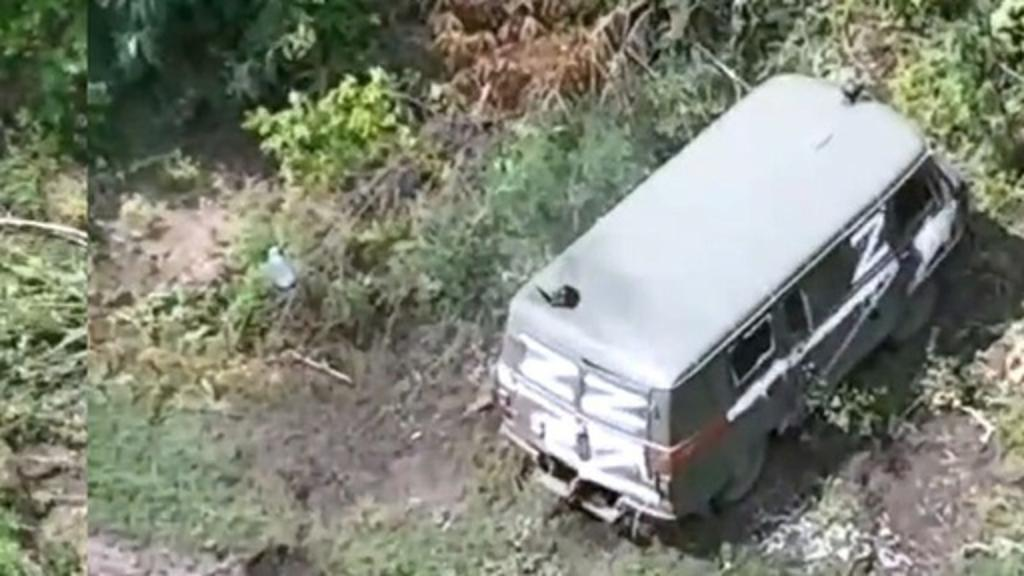CAR: (492, 58, 974, 534)
